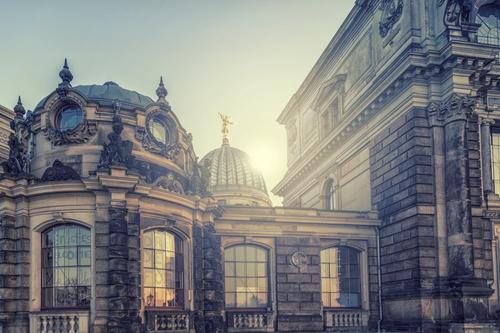buildings: (265, 36, 500, 312), (12, 81, 244, 321)
